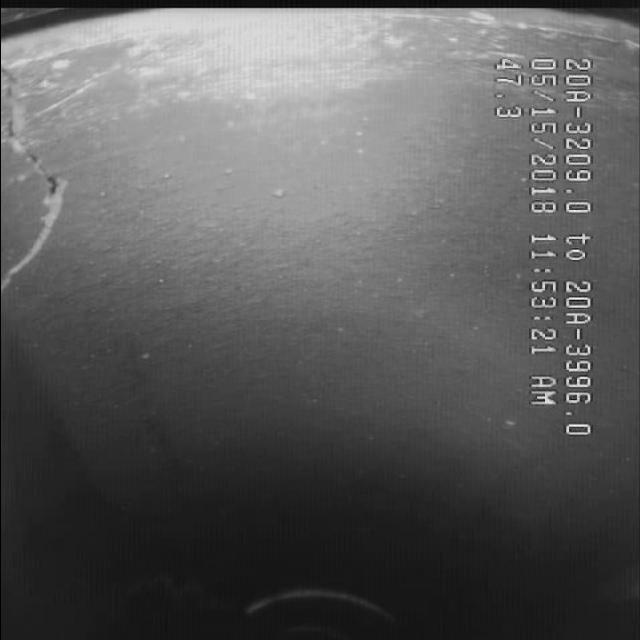Crack: (1, 68, 87, 294)
